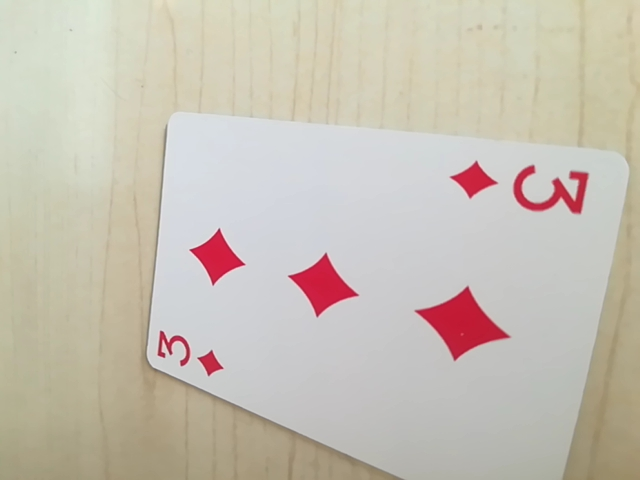fk 3: (450, 158, 589, 220), (151, 324, 229, 381)
